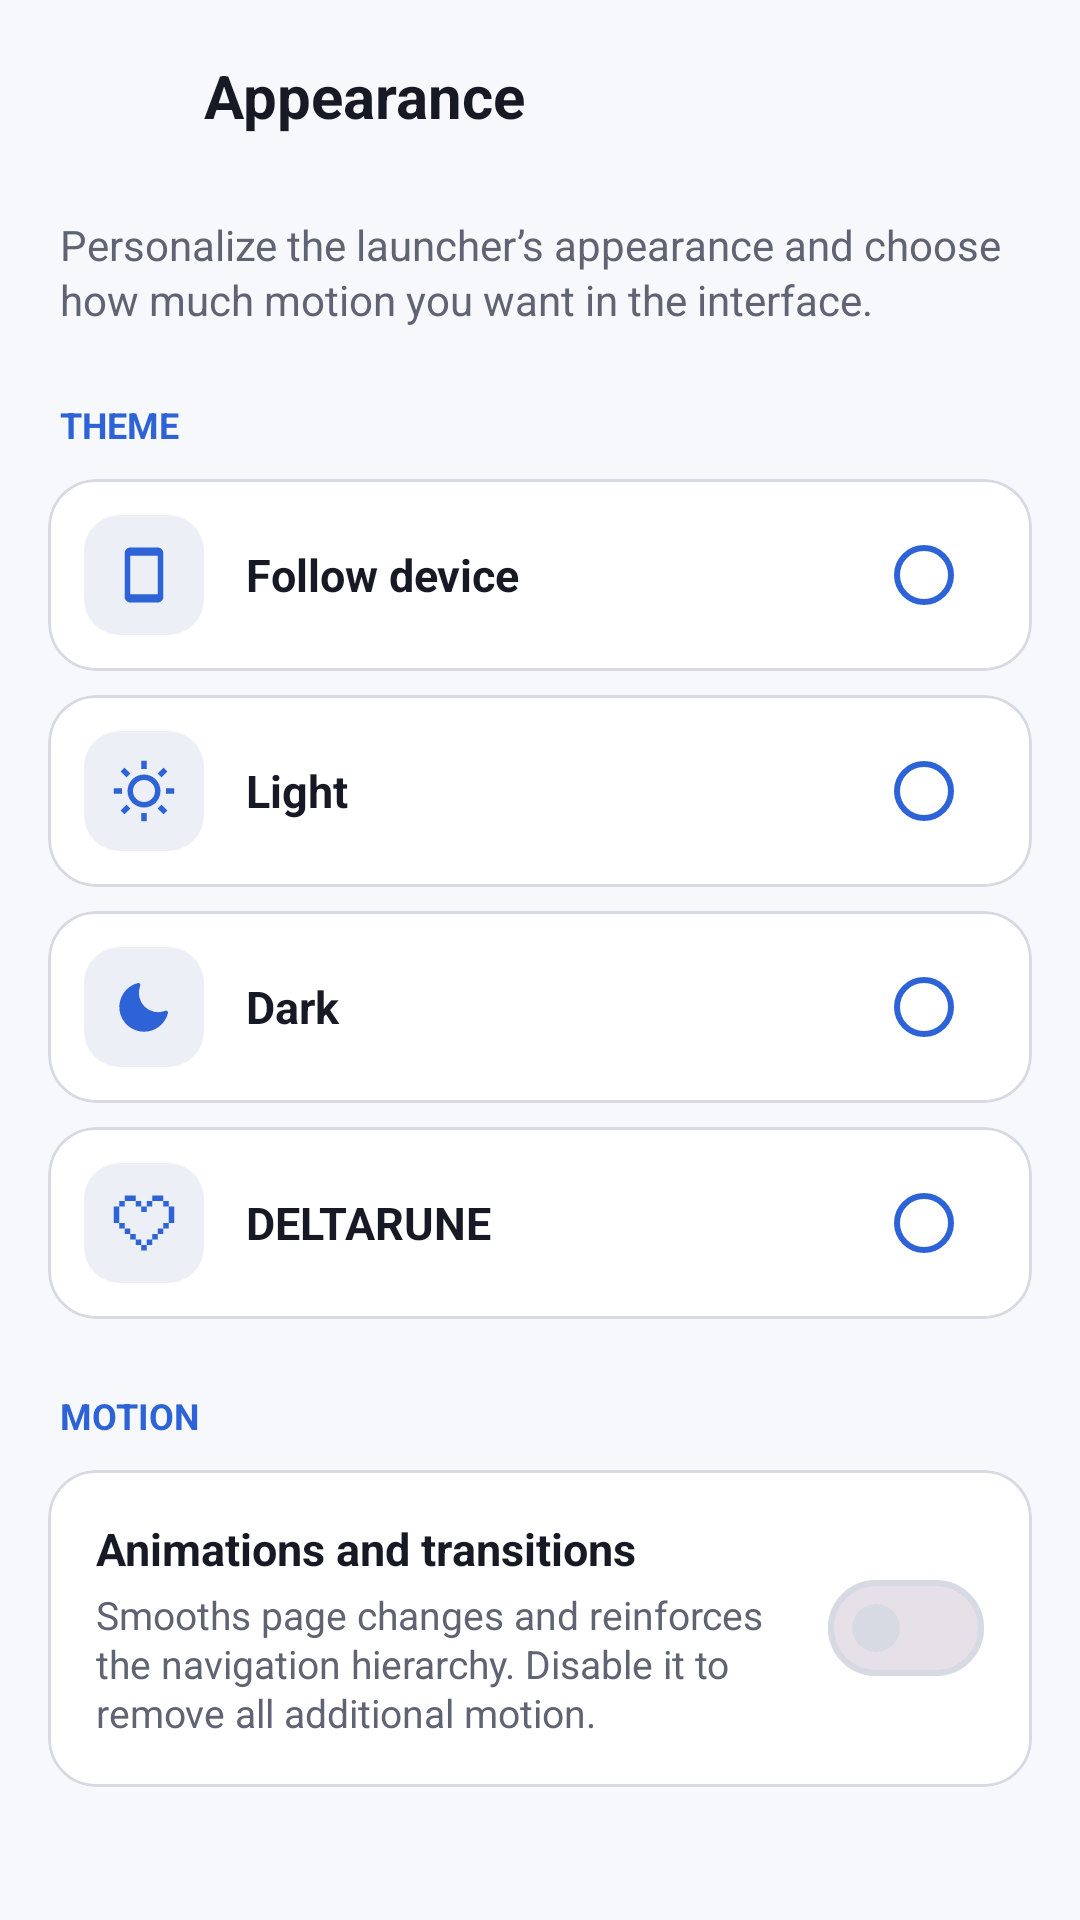

Icons on this 1080 x 1920 Android screen, each with its box as {"x1": x1, "y1": y1, "x2": x2, "y2": y2}:
pixel heart: {"x1": 84, "y1": 1163, "x2": 204, "y2": 1283}
